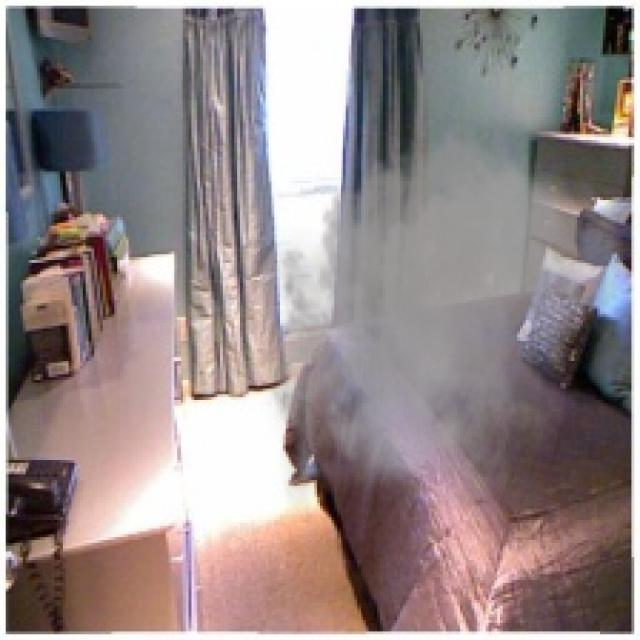smoke: (252, 111, 634, 523)
